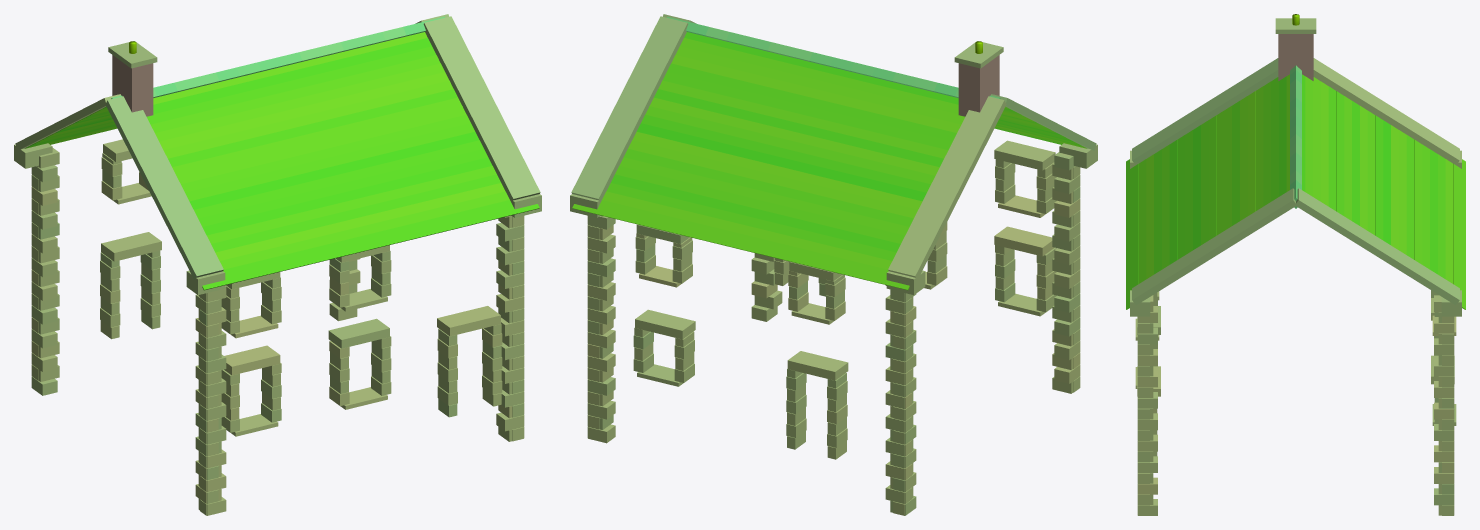
Rendered from SM_Bld_079_Stone.glb.
3 views of the same model, side by side, from view 1: azimuth 30°, elevation 25°; view 2: azimuth 150°, elevation 25°; view 3: azimuth 270°, elevation 25° (orthographic). The views are drawn at different scales.
Parts seen in each view (by area): view 1: SM_Bld_079_Stone; view 2: SM_Bld_079_Stone; view 3: SM_Bld_079_Stone.
Part boxes in pixels (x1,y1,x2,y2): SM_Bld_079_Stone: (14, 14, 541, 515); SM_Bld_079_Stone: (570, 14, 1097, 515); SM_Bld_079_Stone: (1126, 14, 1465, 515).
Size of the model in its own units: 9.1 by 10.26 by 8.62.
